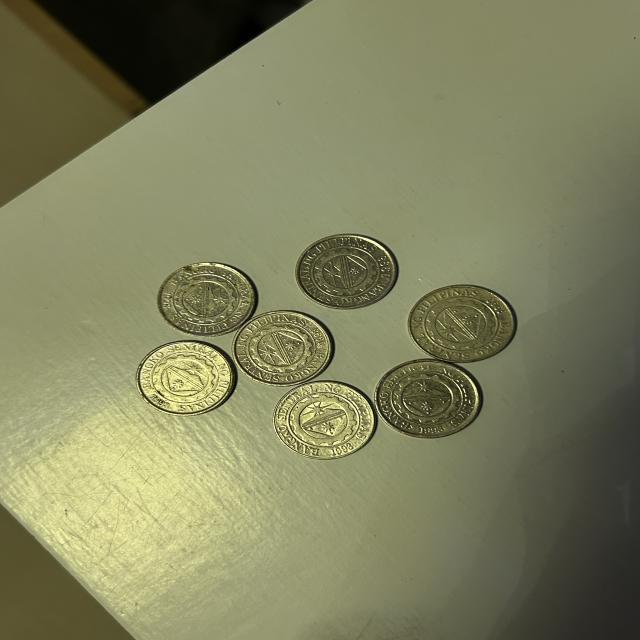1_Old_Back: (386, 369, 469, 434), (421, 292, 504, 354), (242, 320, 324, 376), (282, 392, 362, 449), (168, 273, 244, 331), (143, 350, 222, 404), (309, 244, 382, 299)
